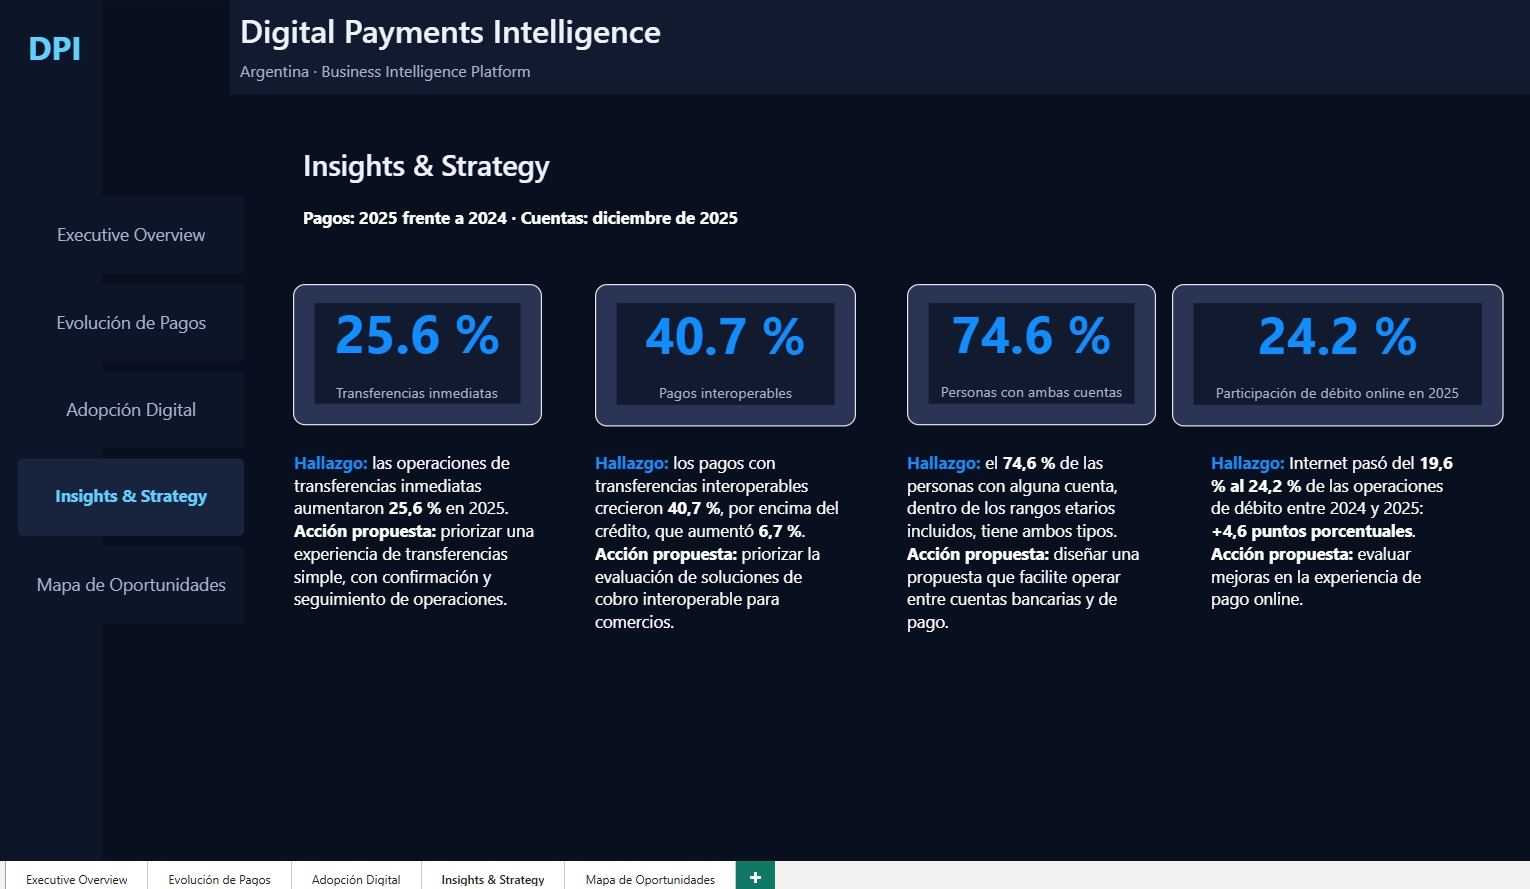

The page's visual inventory and layout, read from the dashboard file:
{"tool":"powerbi","page":{"name":"Insights & Strategy","canvas":[1280,720],"ordinal":3},"visuals":[{"type":"shape","box":[0,0,85,720],"z":0},{"type":"shape","box":[192.5,0,1088,80],"z":1000},{"type":"textbox","box":[200.1,7.8,391.6,45.7],"z":2000},{"type":"textbox","box":[200.1,50,261.3,30.2],"z":3000},{"type":"textbox","box":[23.3,21.6,93.2,56.9],"z":4000},{"type":"pageNavigator","box":[14.7,164.7,189.8,359.7],"z":5000},{"type":"textbox","box":[252.7,121.6,245,43.1],"z":6000},{"type":"textbox","box":[252.7,172.5,433.9,194.9],"z":7000},{"type":"advanceCardE03760C5AB684758B56AA29F9E6C257B","fields":{"mainMeasure":["Medidas.Crecimiento_Transferencias_%"]},"box":[245.1,238,208.3,118],"z":8000},{"type":"advanceCardE03760C5AB684758B56AA29F9E6C257B","fields":{"mainMeasure":["Medidas.Crecimiento_Interoperables_%"]},"box":[496.7,237.8,217.9,119.2],"z":9000},{"type":"advanceCardE03760C5AB684758B56AA29F9E6C257B","fields":{"mainMeasure":["Medidas.Personas_Ambas_Cuentas_%"]},"box":[757.8,237.8,208.3,118],"z":10000},{"type":"advanceCardE03760C5AB684758B56AA29F9E6C257B","fields":{"mainMeasure":["Medidas.Participacion_Debito_Internet_%"]},"box":[979.3,237.8,277.5,118.9],"z":11000},{"type":"textbox","box":[245.6,377.8,208.3,195.1],"z":12000},{"type":"textbox","box":[496.7,377.8,208.3,195.1],"z":13000},{"type":"textbox","box":[757.8,377.8,208.3,195.1],"z":14000},{"type":"textbox","box":[1011.1,377.8,208.3,195.1],"z":15000}]}

Visuals, with their boxes on the page's 1280x720 design canvas (x1, y1, x2, y2). These are canvas units, not pixel positions in the 1530x889 screenshot, which may show the page scaled, cropped or inside an application window:
shape: bbox(0, 0, 85, 720)
shape: bbox(192, 0, 1280, 80)
textbox: bbox(200, 8, 592, 54)
textbox: bbox(200, 50, 461, 80)
textbox: bbox(23, 22, 116, 78)
pageNavigator: bbox(15, 165, 204, 524)
textbox: bbox(253, 122, 498, 165)
textbox: bbox(253, 172, 687, 367)
advanceCardE03760C5AB684758B56AA29F9E6C257B - Medidas.Crecimiento_Transferencias_%: bbox(245, 238, 453, 356)
advanceCardE03760C5AB684758B56AA29F9E6C257B - Medidas.Crecimiento_Interoperables_%: bbox(497, 238, 715, 357)
advanceCardE03760C5AB684758B56AA29F9E6C257B - Medidas.Personas_Ambas_Cuentas_%: bbox(758, 238, 966, 356)
advanceCardE03760C5AB684758B56AA29F9E6C257B - Medidas.Participacion_Debito_Internet_%: bbox(979, 238, 1257, 357)
textbox: bbox(246, 378, 454, 573)
textbox: bbox(497, 378, 705, 573)
textbox: bbox(758, 378, 966, 573)
textbox: bbox(1011, 378, 1219, 573)
